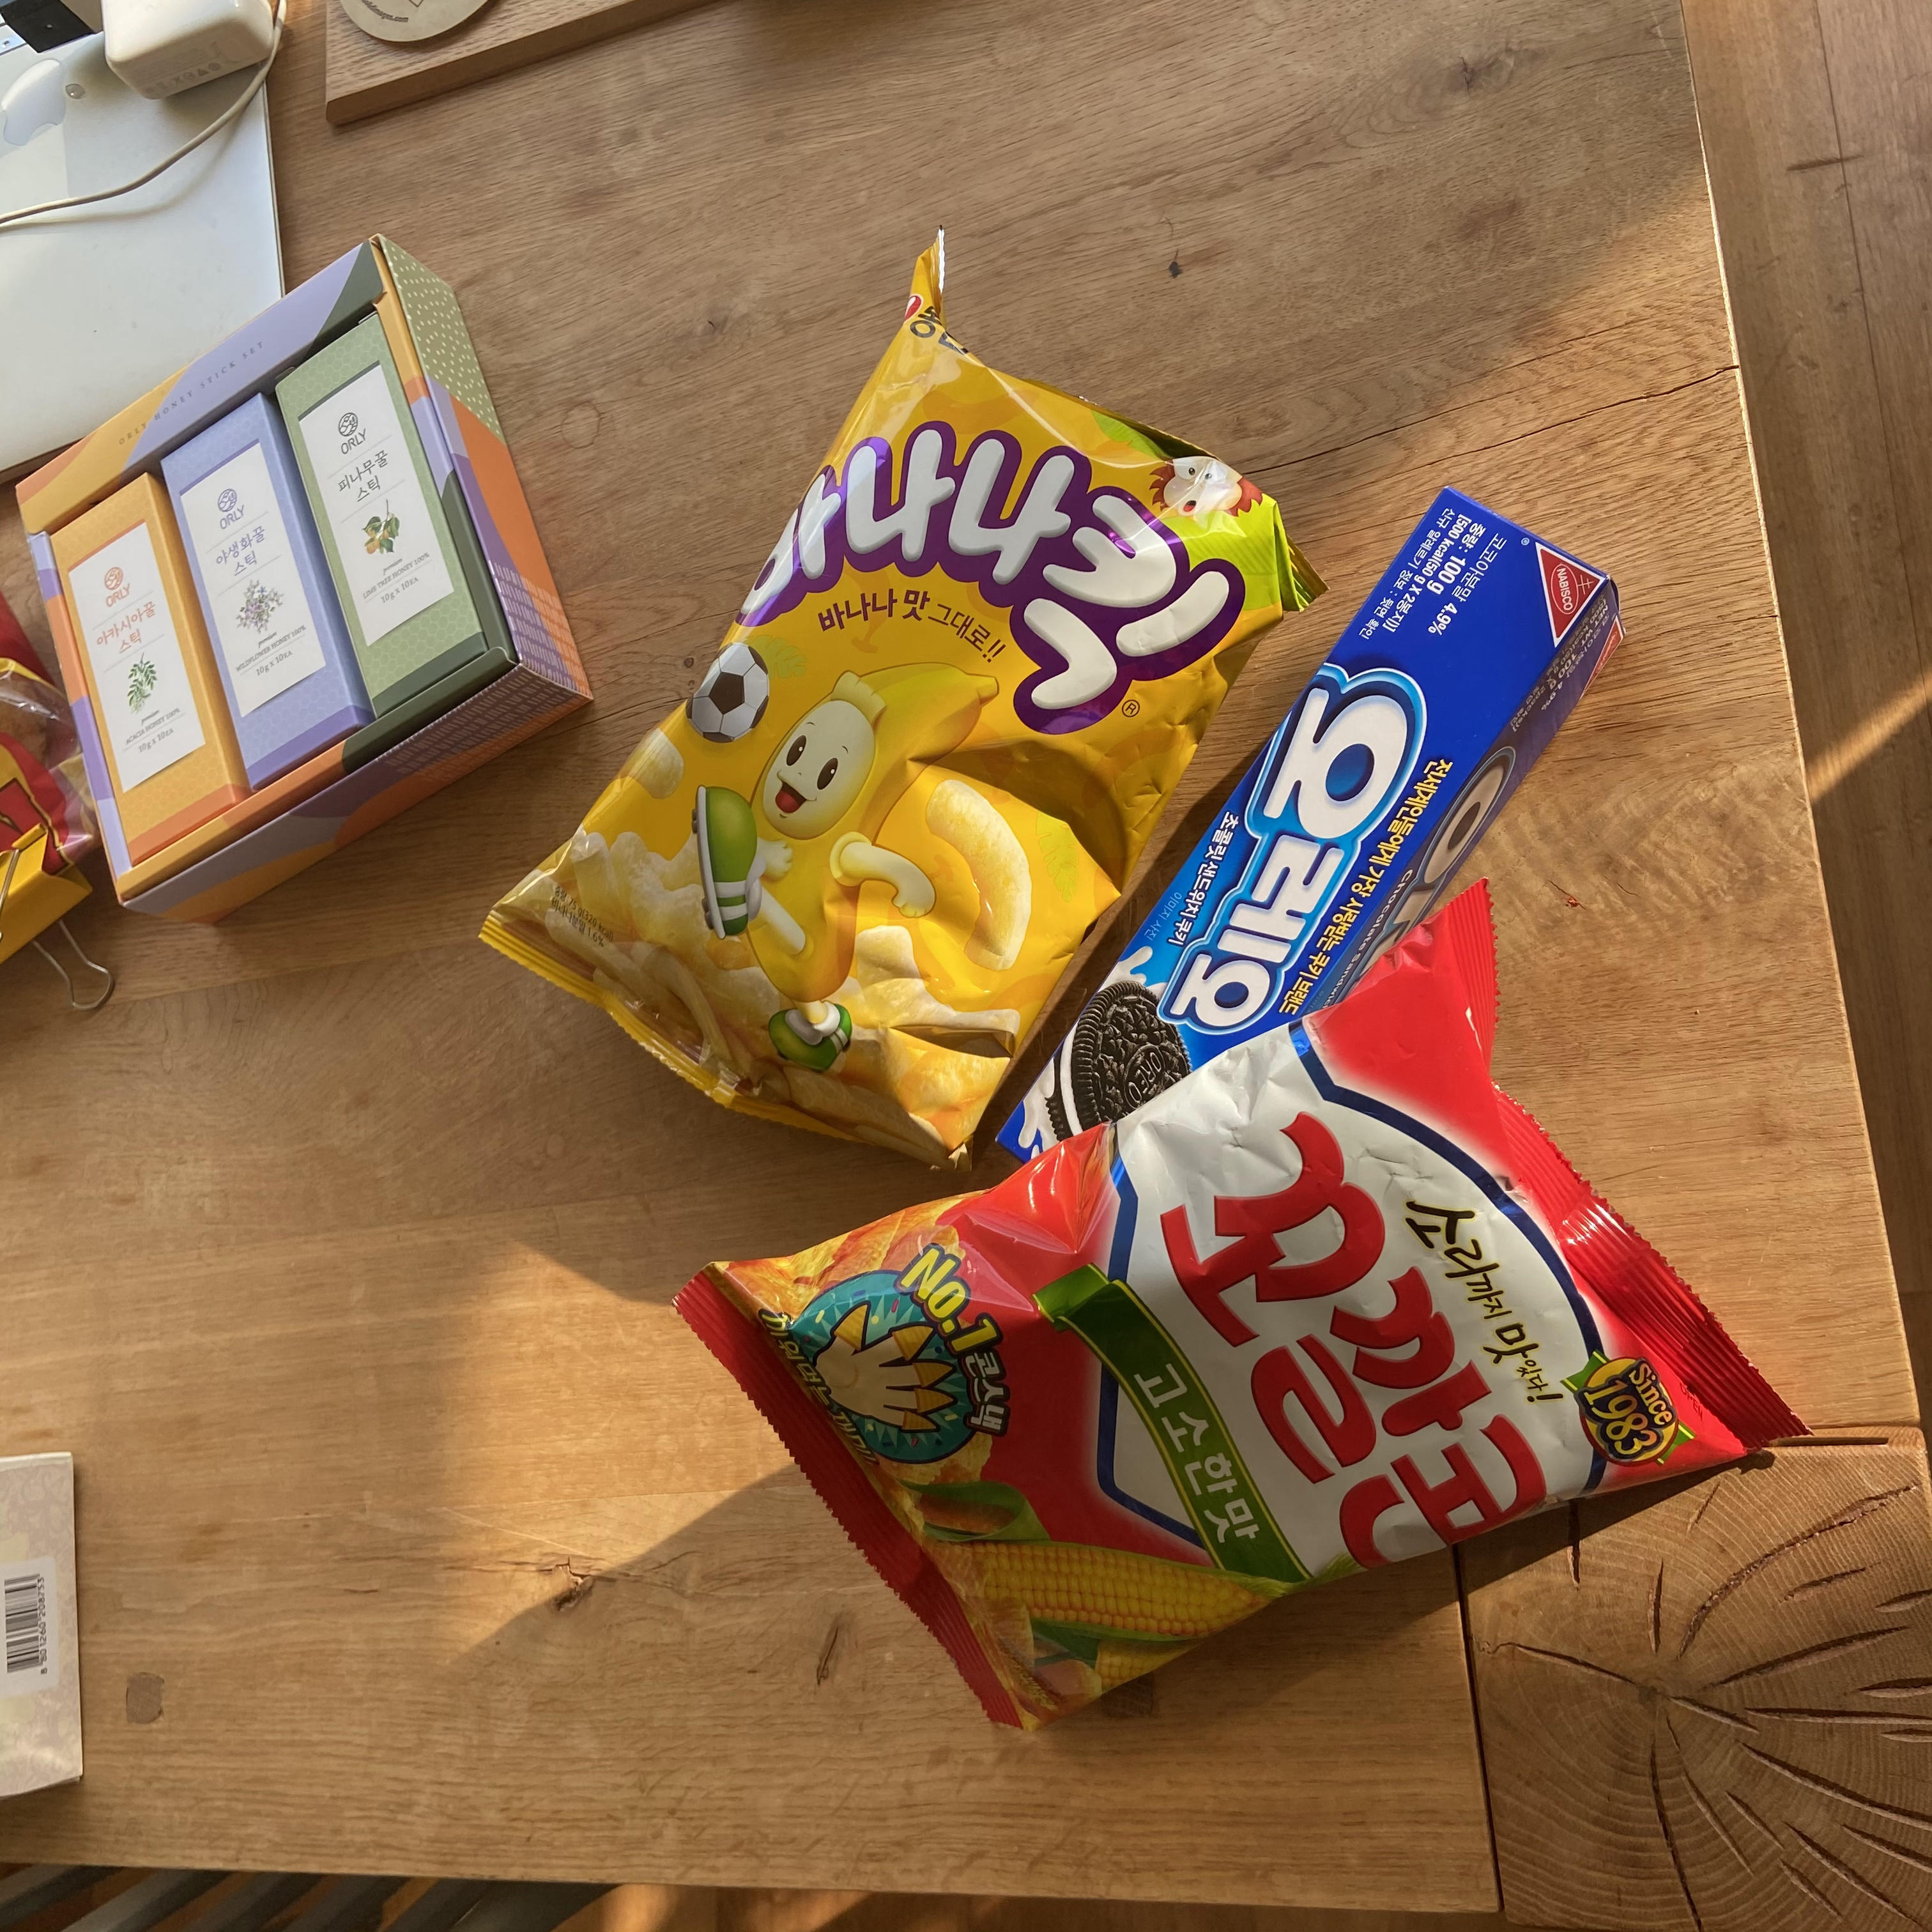banana: (453, 218, 1332, 1205)
ggoggalcon: (658, 860, 1828, 1755)
oreo: (968, 472, 1638, 1205)
